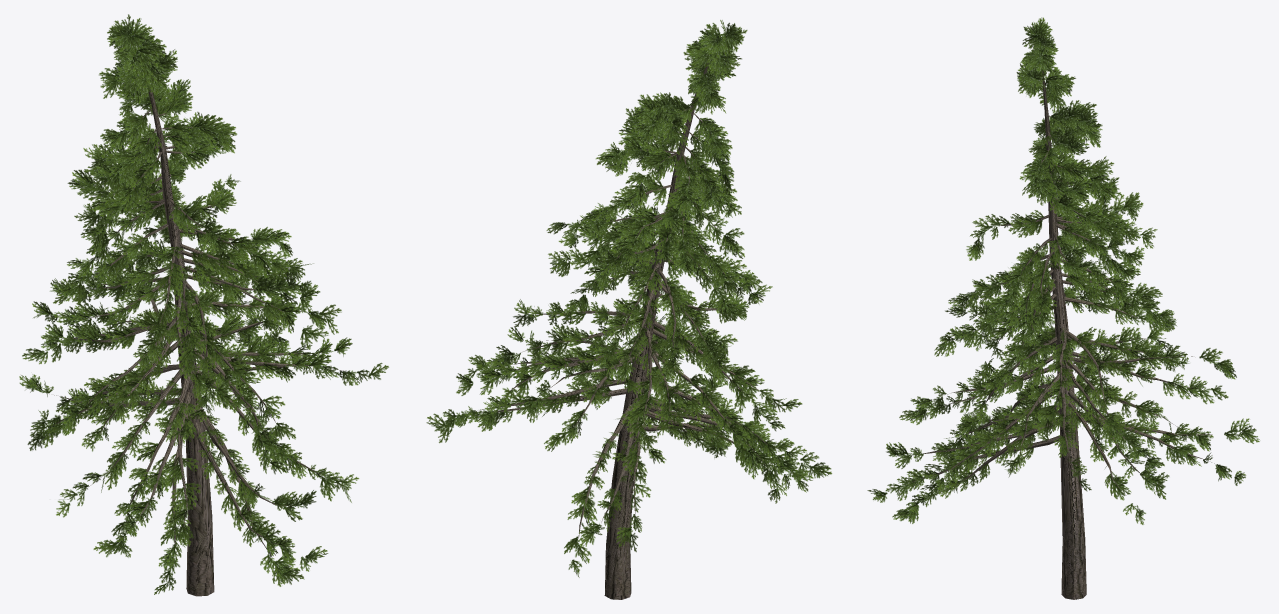
The model's file is pino_mediano_2.glb.
3 views of the same model, side by side, from view 1: azimuth 30°, elevation 25°; view 2: azimuth 150°, elevation 25°; view 3: azimuth 270°, elevation 25° (orthographic). The views are drawn at different scales.
Visible parts, largest first — view 1: pino_mediano_2_hojas, pino_mediano_2_ramas; view 2: pino_mediano_2_hojas, pino_mediano_2_ramas; view 3: pino_mediano_2_hojas, pino_mediano_2_ramas.
Boxes of the visible parts, left/top/right/bottom form: pino_mediano_2_hojas: left=19, top=14, right=388, bottom=594; pino_mediano_2_ramas: left=49, top=75, right=343, bottom=596; pino_mediano_2_hojas: left=426, top=20, right=832, bottom=577; pino_mediano_2_ramas: left=475, top=62, right=781, bottom=599; pino_mediano_2_hojas: left=867, top=17, right=1259, bottom=524; pino_mediano_2_ramas: left=903, top=70, right=1224, bottom=599.
Size of the model in its own units: 7.06 by 12.1 by 8.15.
2 materials, 2 textured.
